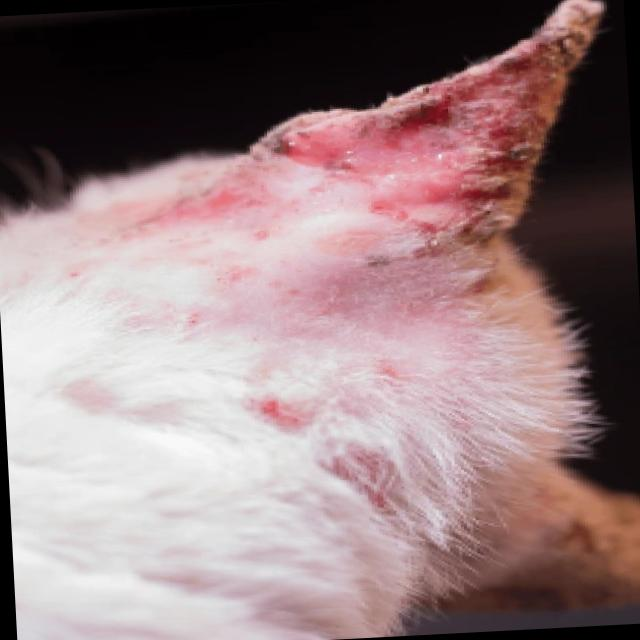Mange: (262, 4, 602, 214), (385, 94, 474, 153), (150, 183, 256, 230), (250, 390, 318, 440), (354, 191, 416, 232), (240, 222, 286, 248), (373, 356, 405, 391), (215, 264, 251, 292), (244, 227, 283, 250), (274, 278, 306, 306)
